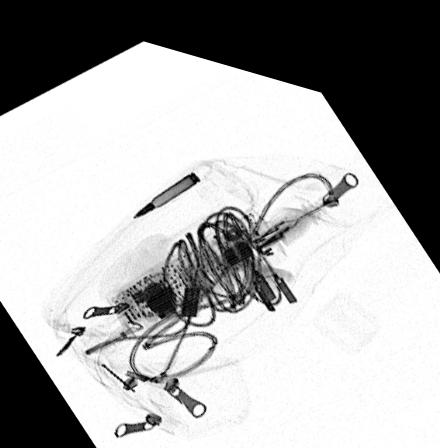Bullet: (130, 159, 200, 210)
